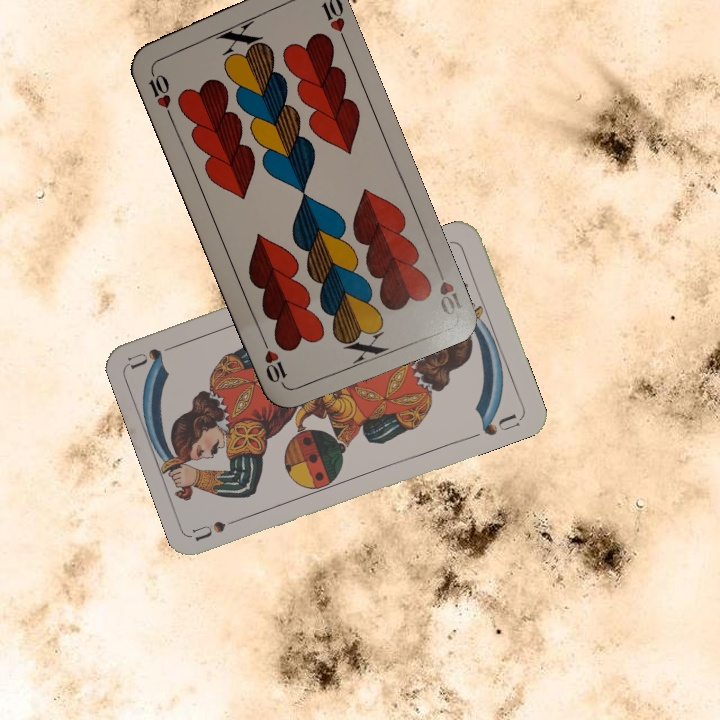H10: (431, 259, 466, 318), (144, 63, 174, 120)
SU: (190, 512, 249, 543)
